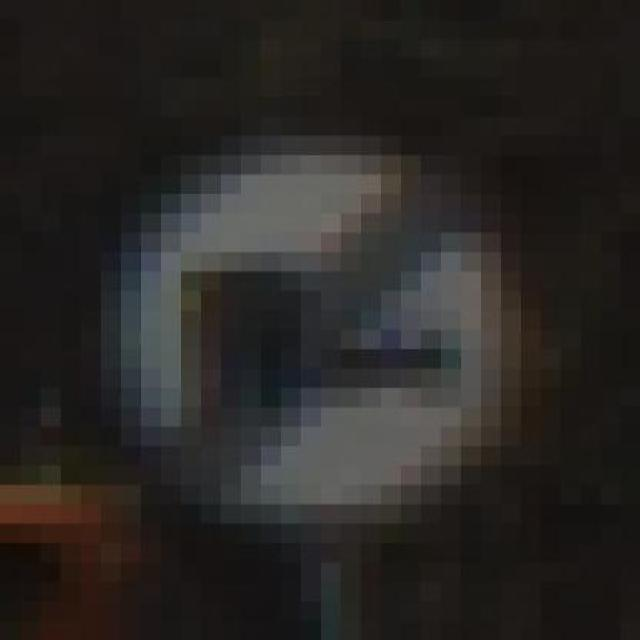Overtaking by trucks is prohibited: (80, 58, 540, 562)
